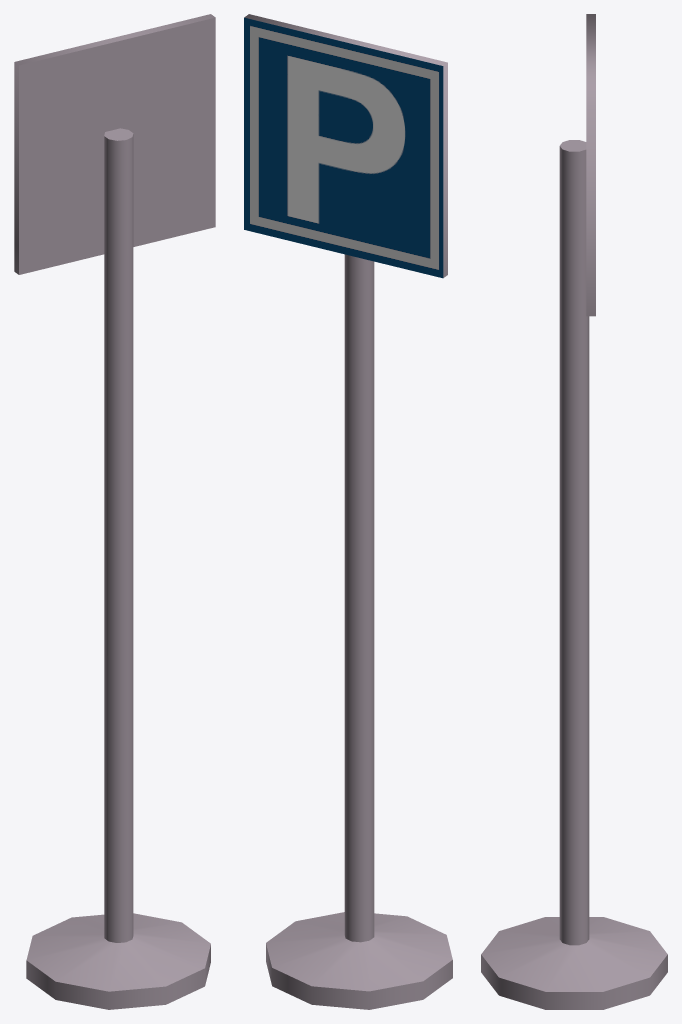
The model's file is parkingsign_smooth.fbx.
3 views of the same model, side by side, from view 1: azimuth 30°, elevation 25°; view 2: azimuth 150°, elevation 25°; view 3: azimuth 270°, elevation 25° (orthographic). The views are drawn at different scales.
Parts seen in each view (by area): view 1: parkingsign_smooth; view 2: parkingsign_smooth; view 3: parkingsign_smooth.
Part boxes in pixels (x1,y1,x2,y2): parkingsign_smooth: [14, 14, 215, 1009]; parkingsign_smooth: [244, 14, 452, 1009]; parkingsign_smooth: [481, 14, 667, 1009].
Size of the model in its own units: 0.8686 by 0.722 by 3.9.
2 materials, 1 textured.
